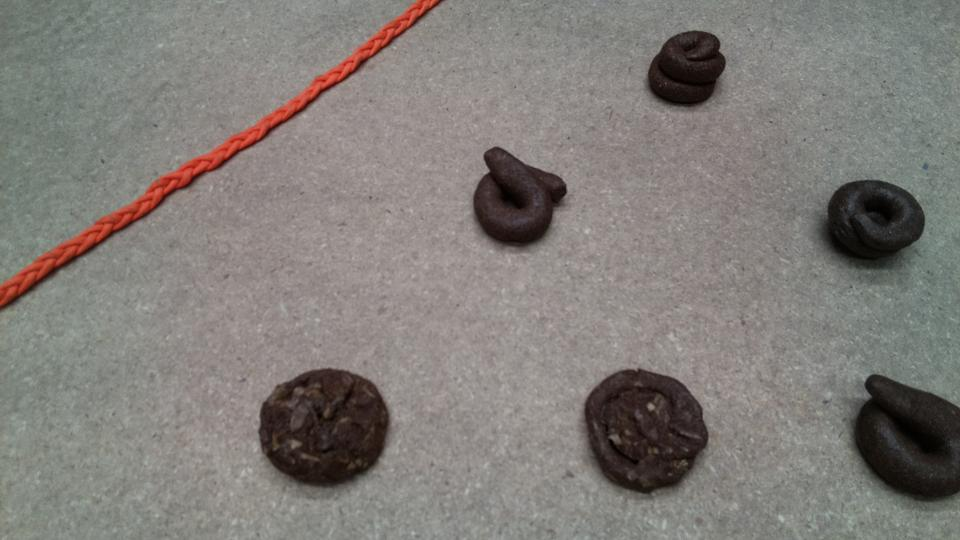poop: (581, 365, 713, 498), (256, 366, 395, 491), (850, 368, 960, 506), (470, 144, 570, 249), (823, 178, 929, 264), (645, 28, 729, 109)
rope: (1, 1, 428, 302)
